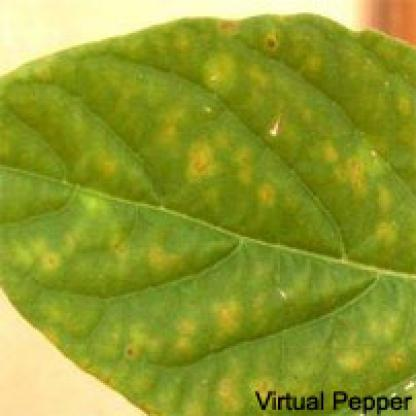Bell_pepper leaf: (2, 18, 412, 390)
